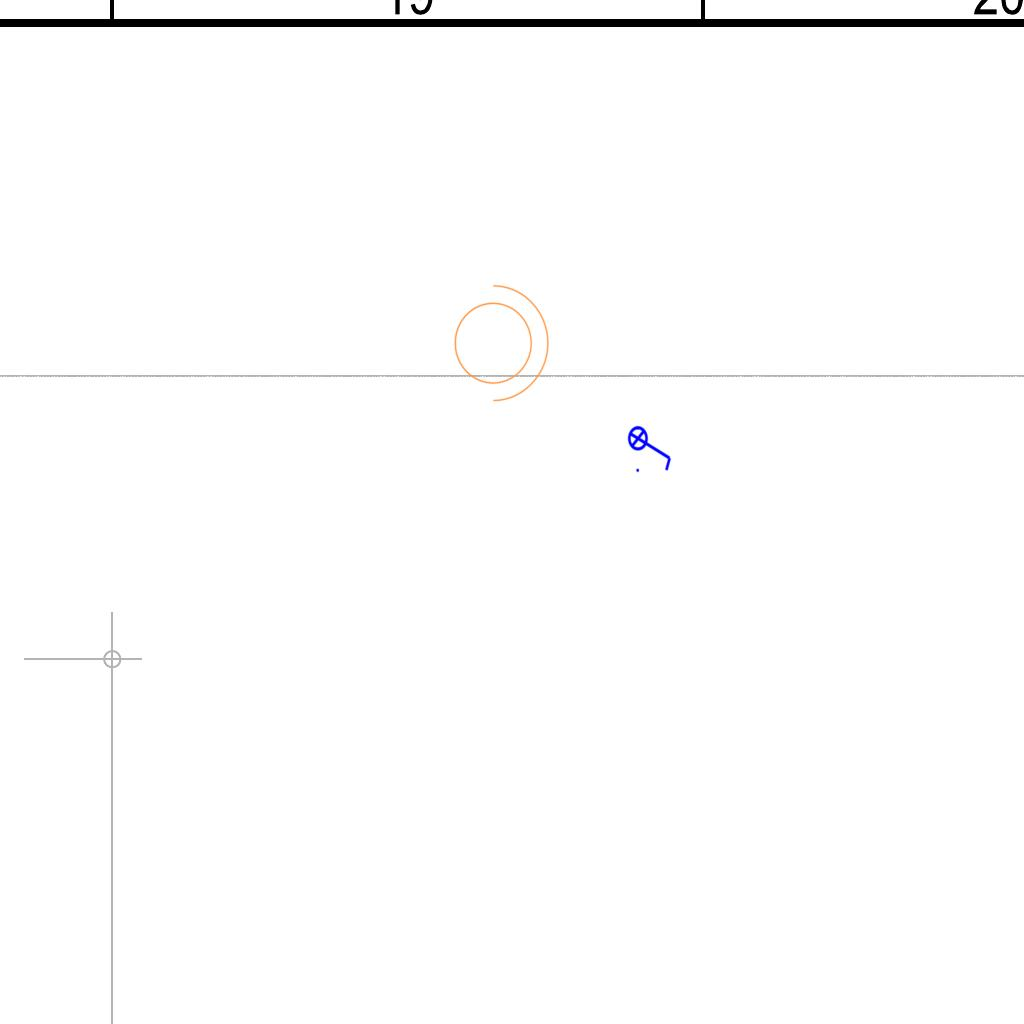Ausschalter_beleuchtet: (627, 419, 675, 475)
Scheinwerfer_fuer_Alarmbeleuchtung: (442, 274, 554, 406)
